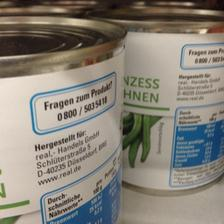Bohnen: (0, 21, 126, 223)
